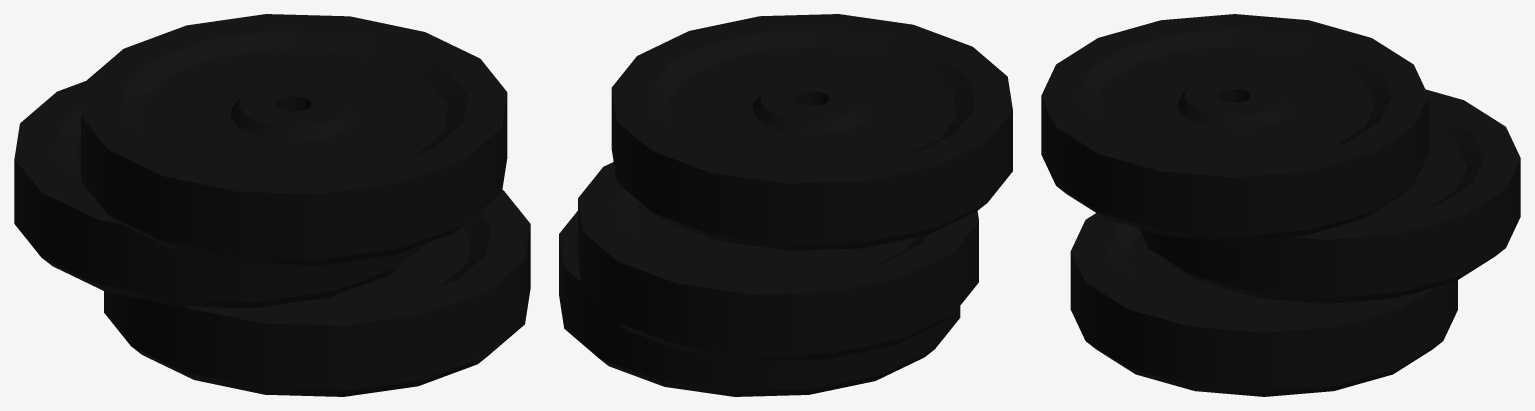
Rendered from SM_Gym_item_22.fbx.
3 views of the same model, side by side, from view 1: azimuth 30°, elevation 25°; view 2: azimuth 150°, elevation 25°; view 3: azimuth 270°, elevation 25° (orthographic). The views are drawn at different scales.
Visible parts, largest first — view 1: SM_Gym_item_22; view 2: SM_Gym_item_22; view 3: SM_Gym_item_22.
Boxes of the visible parts, <box> form: SM_Gym_item_22: <box>14,14,530,396</box>; SM_Gym_item_22: <box>559,14,1012,396</box>; SM_Gym_item_22: <box>1041,14,1520,396</box>.
Bounding box in the file's own units: 69.59 × 35.76 × 75.11.
1 material, 1 textured.
